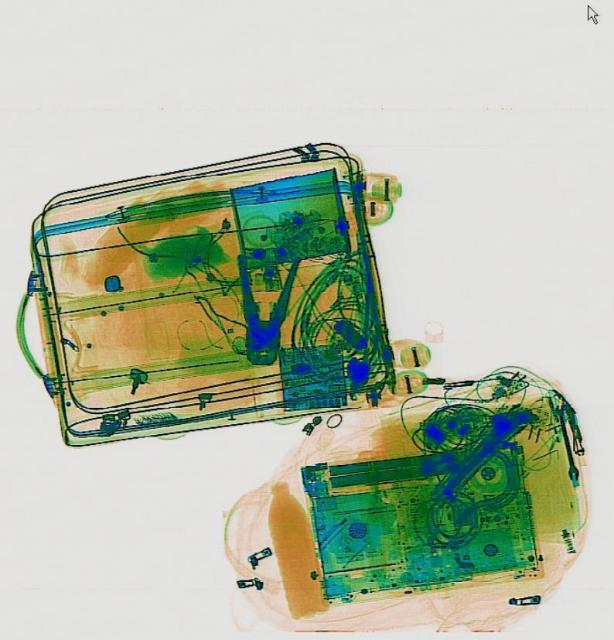Pliers: (230, 254, 297, 366)
